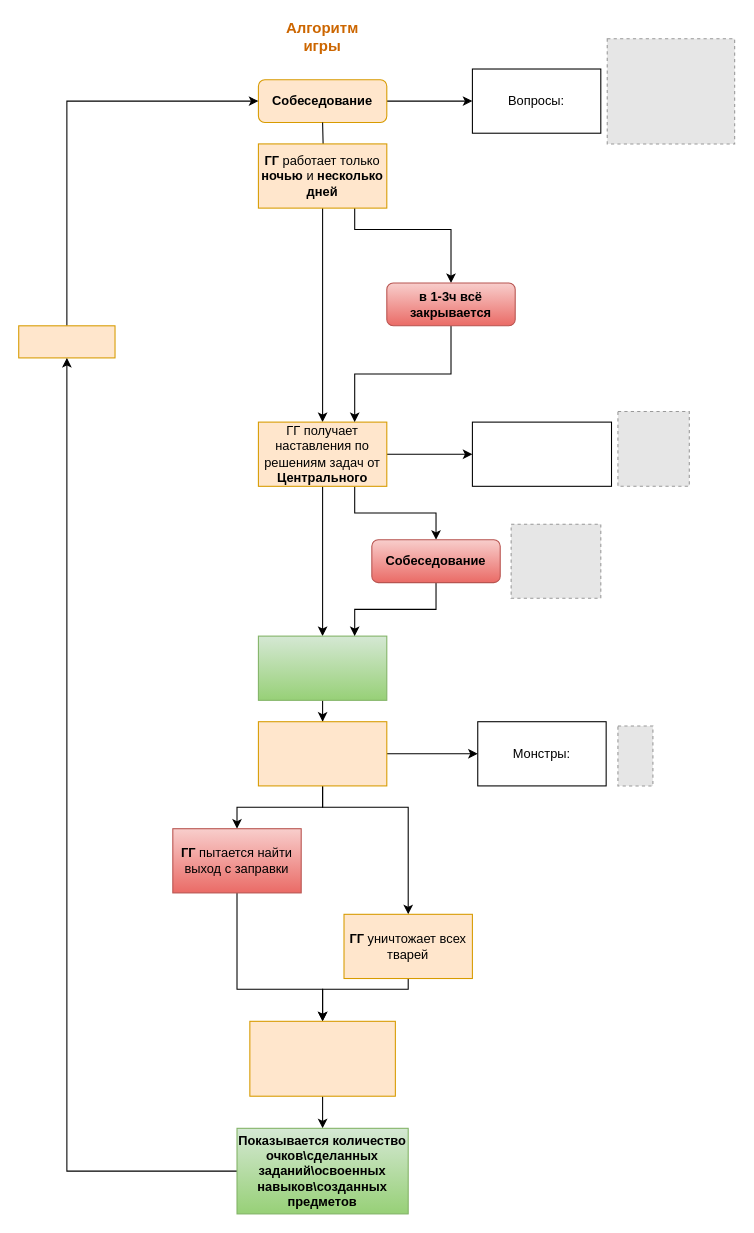
The diagram is 754 pixels wide and 1233 high, and some of its shapes have lost their labels. Grey dashed boxes stand in for pictures. The box of each missing label's shape, as (x1, y1, x2, y2) in pixels:
ГГ ловят представители компании и устраняют\нанимают: (249, 1020, 395, 1096)
ГГ противостоит таинственным монстрам: (257, 721, 387, 786)
Задания:: (471, 421, 612, 486)
На предприятии случается авария: (257, 635, 387, 700)
Новая игра +: (18, 325, 115, 358)
